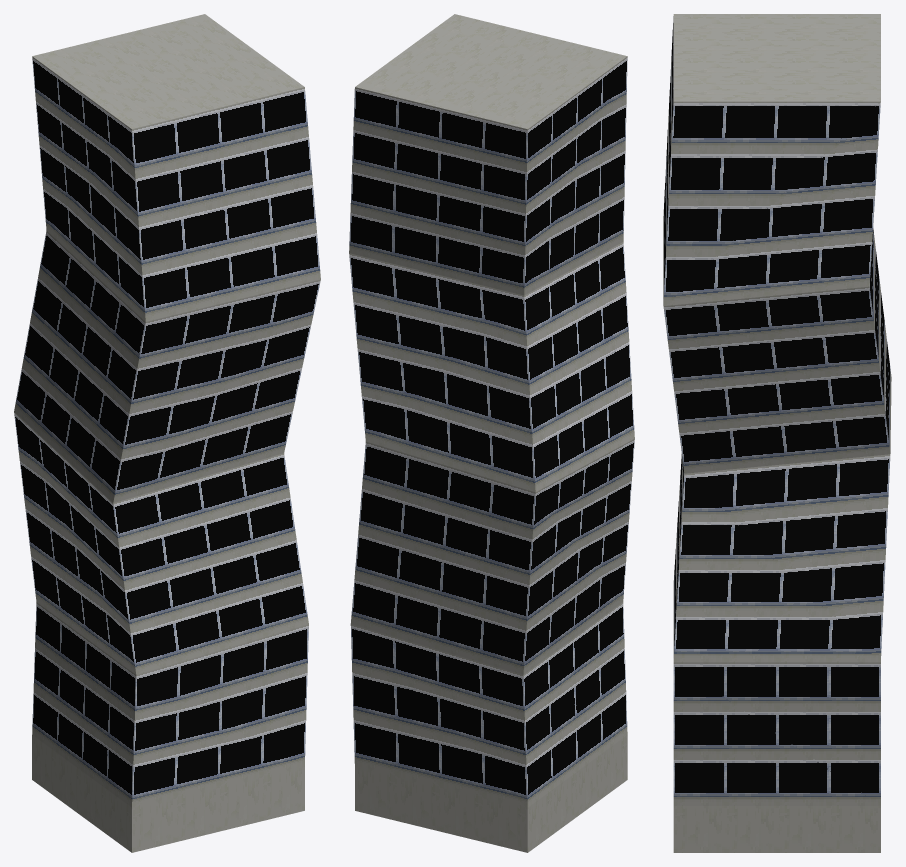
File: Warped Office Building.fbx
3 views of the same model, side by side, from view 1: azimuth 30°, elevation 25°; view 2: azimuth 150°, elevation 25°; view 3: azimuth 270°, elevation 25° (orthographic). The views are drawn at different scales.
Visible parts, largest first — view 1: Office Building; view 2: Office Building; view 3: Office Building.
Part boxes in pixels (box(x1,y1,x2,y2)): Office Building: box(14, 14, 320, 852); Office Building: box(349, 14, 634, 852); Office Building: box(663, 14, 891, 852).
Bounding box in the file's own units: 228 × 800 × 220.
